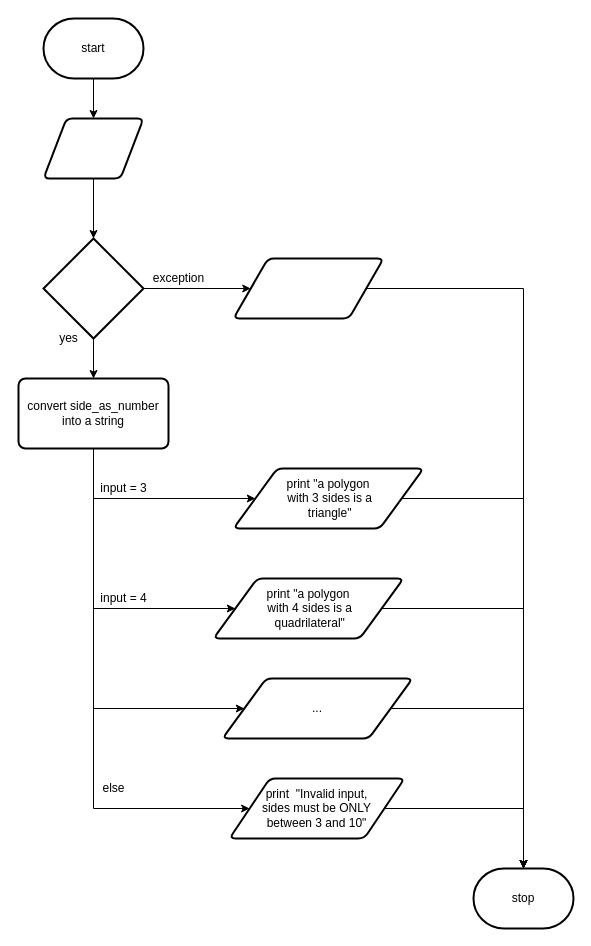
Image size: 591x946. Some labels were removed from this diagram. Here are the shapes that lost their labels. From the top down, the box of each, then its label:
(42, 117, 144, 179): get side_as_ number
(42, 237, 144, 339): try
(232, 257, 384, 319): print "{0} not valid input"
